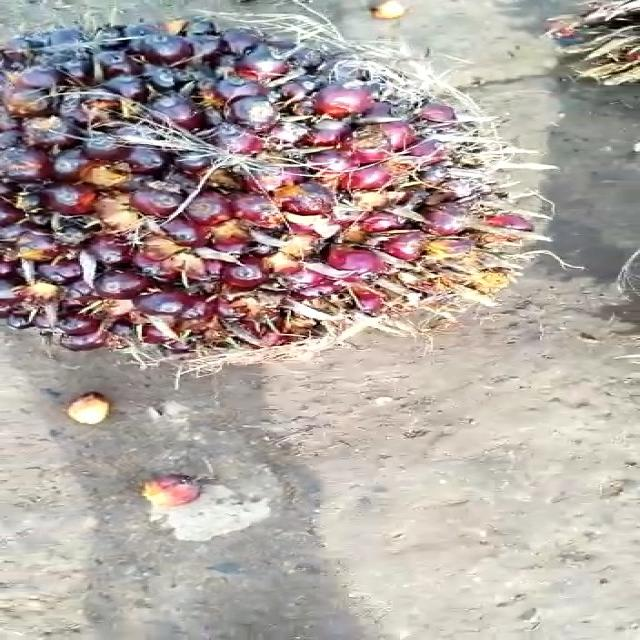palm oil: (0, 0, 525, 360)
